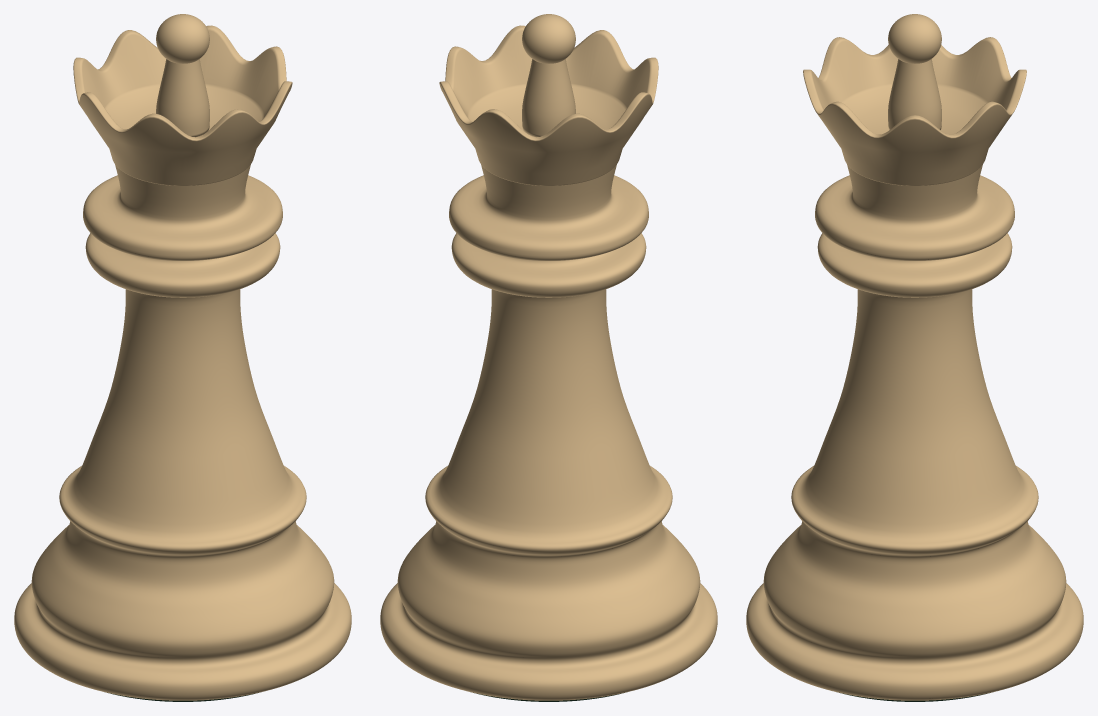
The model's file is queen.glb.
3 views of the same model, side by side, from view 1: azimuth 30°, elevation 25°; view 2: azimuth 150°, elevation 25°; view 3: azimuth 270°, elevation 25° (orthographic).
Visible parts, largest first — view 1: Queen.002; view 2: Queen.002; view 3: Queen.002.
Boxes of the visible parts, bbox=[...] form: Queen.002: bbox=[14, 14, 351, 701]; Queen.002: bbox=[380, 14, 717, 701]; Queen.002: bbox=[746, 14, 1083, 701].
Bounding box in the file's own units: 0.0399 × 0.0816 × 0.0399.
